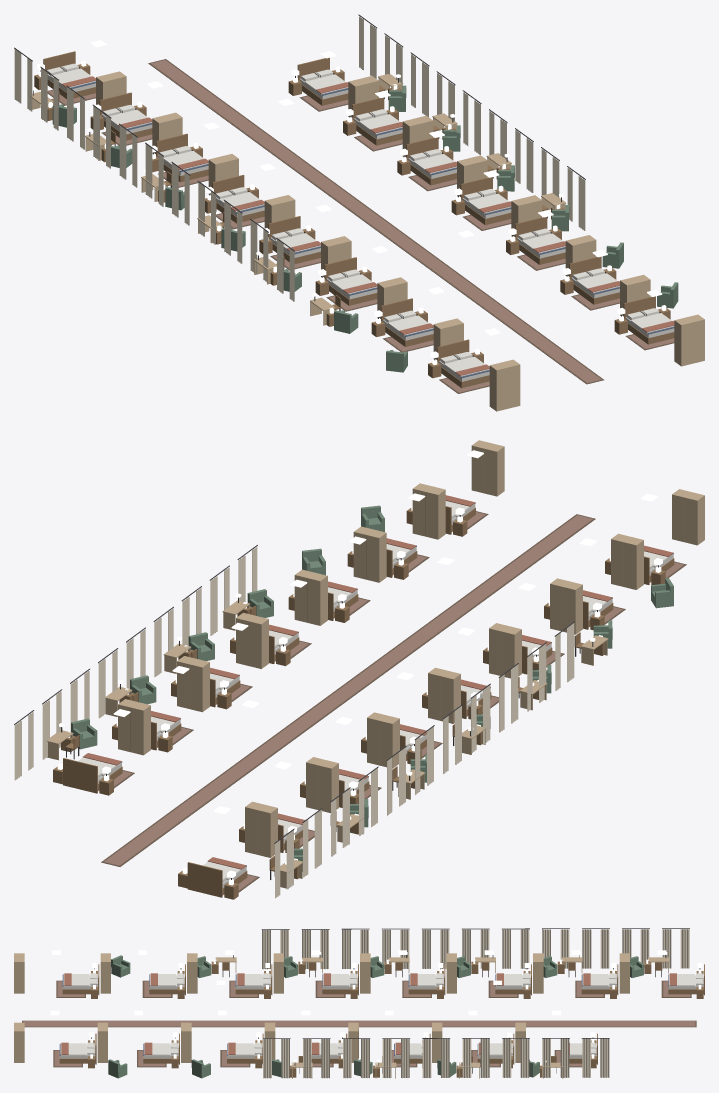
File: fine-s4.glb
3 renders of one model, top to bottom at view 1: azimuth 30°, elevation 25°; view 2: azimuth 150°, elevation 25°; view 3: azimuth 270°, elevation 25°, orthographic. The views are drawn at different scales.
Parts seen in each view (by area): view 1: soft-s4, dresser.059, dresser.051, bed-frame.059, bed-frame.057, bed-frame.058, bed-frame.046, bed-frame.047, bed-frame.049, bed-frame.045, bed-frame.048, bed-frame.050 (+19 smaller); view 2: soft-s4, dresser.059, dresser.058, dresser.048, dresser.049, dresser.050, dresser.051, dresser.052, dresser.045, dresser.047, dresser.046, dresser.054 (+6 smaller); view 3: soft-s4, dresser.049, dresser.051, dresser.052, dresser.053, dresser.054, dresser.055, dresser.056, dresser.057, dresser.058, dresser.059, dresser.050 (+24 smaller).
Part boxes in pixels (x1,y1,x2,y2): soft-s4: (14, 14, 674, 393); dresser.059: (489, 359, 520, 411); dresser.051: (674, 314, 704, 366); bed-frame.059: (437, 339, 489, 388); bed-frame.057: (324, 257, 377, 305); bed-frame.058: (381, 298, 433, 346); bed-frame.046: (352, 97, 402, 145); bed-frame.047: (406, 137, 456, 185); bed-frame.049: (515, 217, 565, 264); bed-frame.045: (297, 57, 348, 105); bed-frame.048: (460, 177, 511, 225); bed-frame.050: (569, 256, 619, 304); soft-s4: (14, 495, 686, 898); dresser.059: (672, 489, 704, 545); dresser.058: (611, 533, 643, 589); dresser.048: (294, 569, 327, 625); dresser.049: (353, 526, 386, 582); dresser.050: (412, 483, 445, 539); dresser.051: (471, 440, 504, 496); dresser.052: (245, 801, 277, 857); dresser.045: (118, 699, 150, 755); dresser.047: (236, 612, 268, 668); dresser.046: (177, 656, 209, 712); dresser.054: (367, 712, 399, 768); soft-s4: (22, 928, 702, 1078); dresser.049: (181, 1022, 191, 1062); dresser.051: (14, 1022, 24, 1062); dresser.052: (619, 953, 629, 993); dresser.053: (533, 953, 543, 993); dresser.054: (446, 953, 456, 993); dresser.055: (360, 953, 370, 993); dresser.056: (273, 953, 283, 993); dresser.057: (187, 953, 197, 993); dresser.058: (100, 953, 110, 993); dresser.059: (14, 953, 24, 993); dresser.050: (97, 1022, 107, 1062).
Size of the model in its own units: 14.91 by 2.63 by 39.44.
